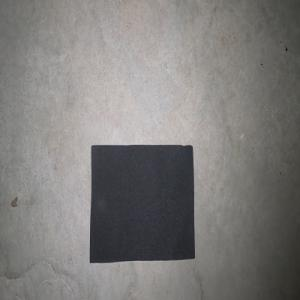PaintChip: (89, 144, 195, 263)
